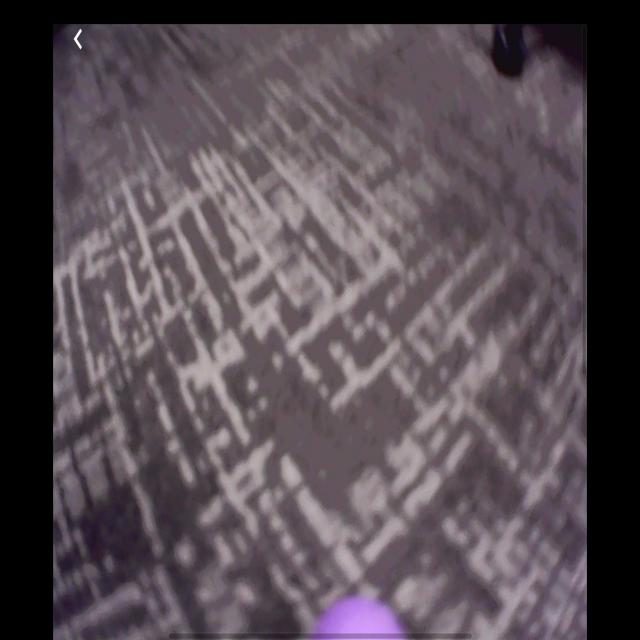ball: (311, 595, 408, 639)
